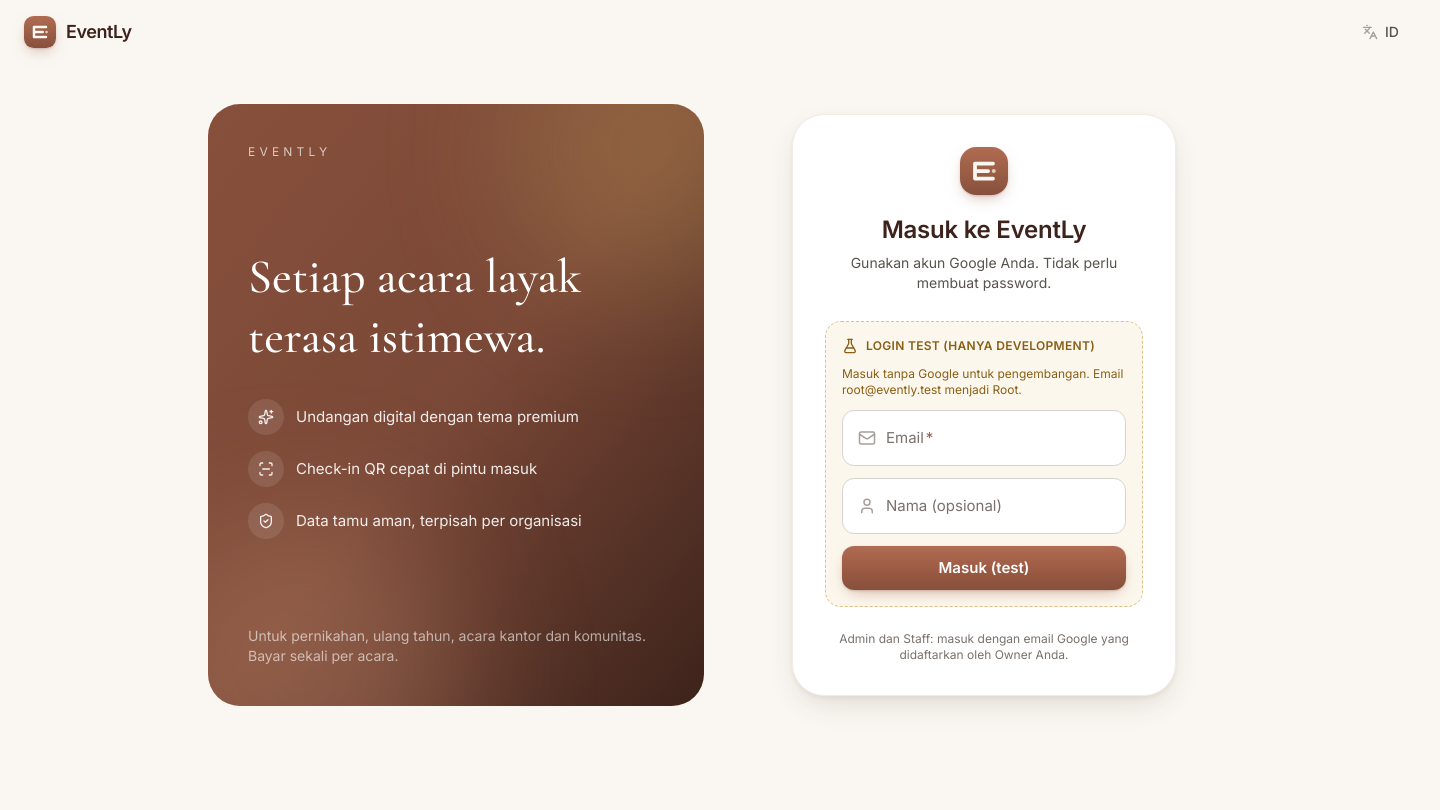
Test: LoginPage › signs in with the development form and goes to the role home
Type "budi@example.test" into the field labelled "Email" at (984, 438), box [842,410,1126,466]
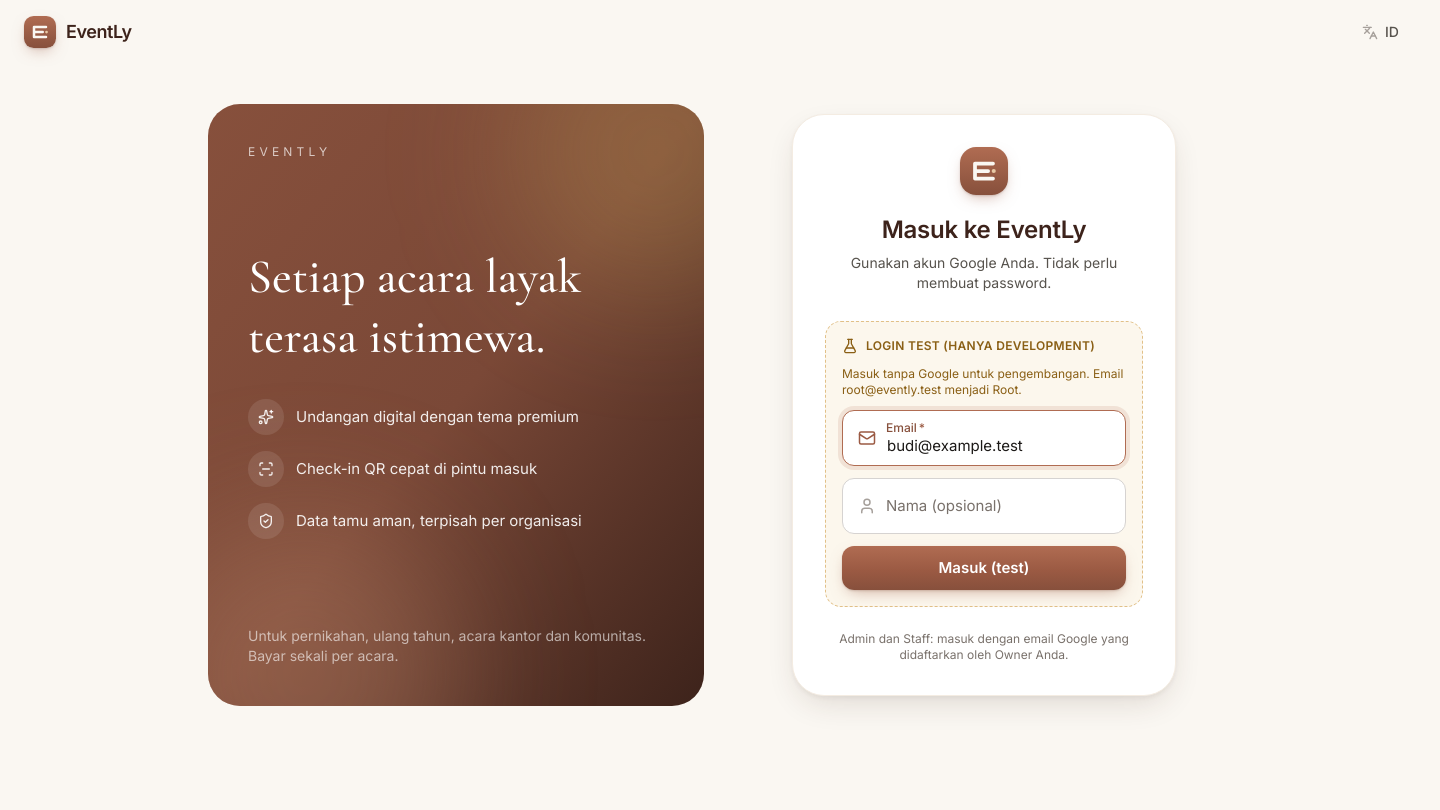
Click the button "Masuk (test)" at (984, 568), box [842,546,1126,590]
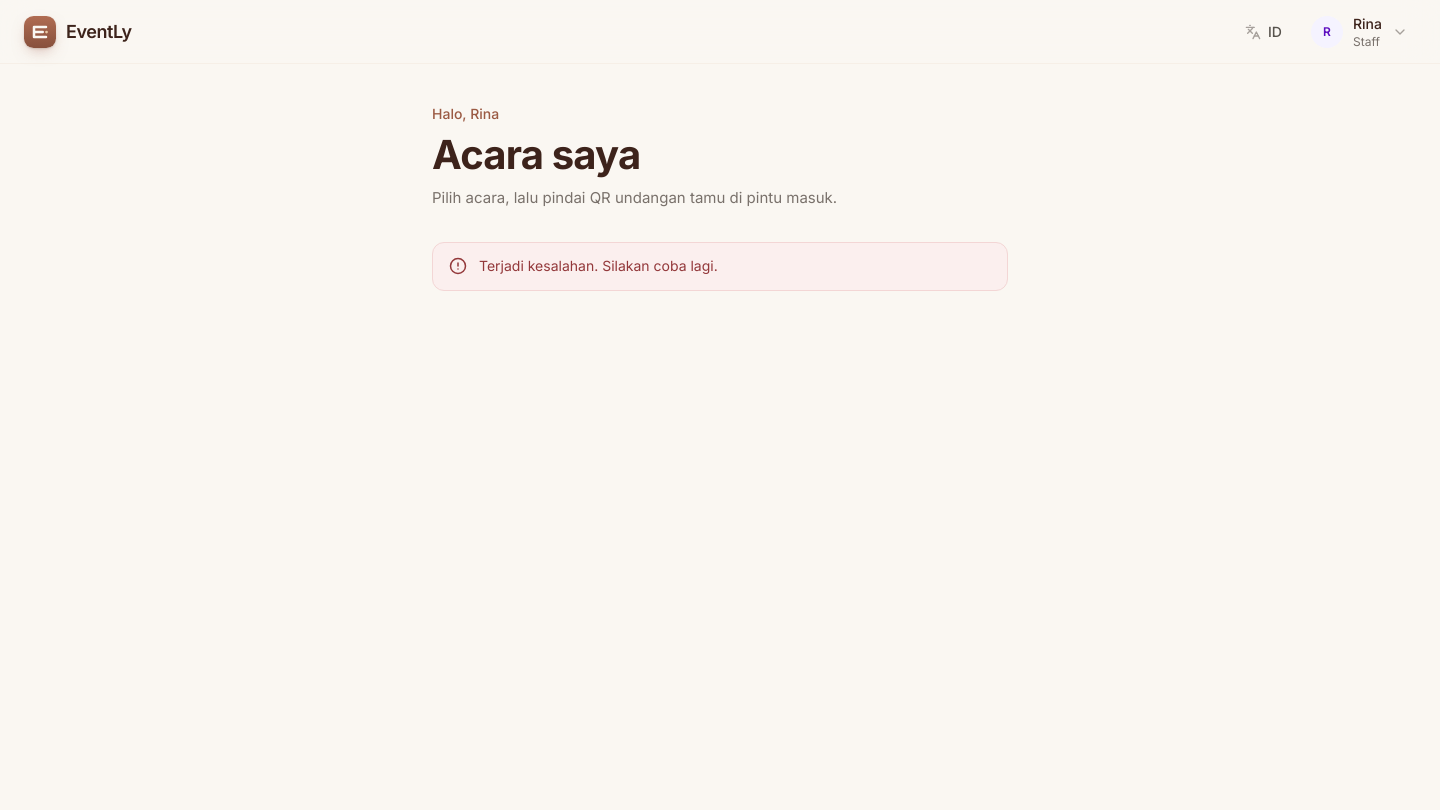
Now the heading "Acara saya" is shown, box [432,130,640,179]
